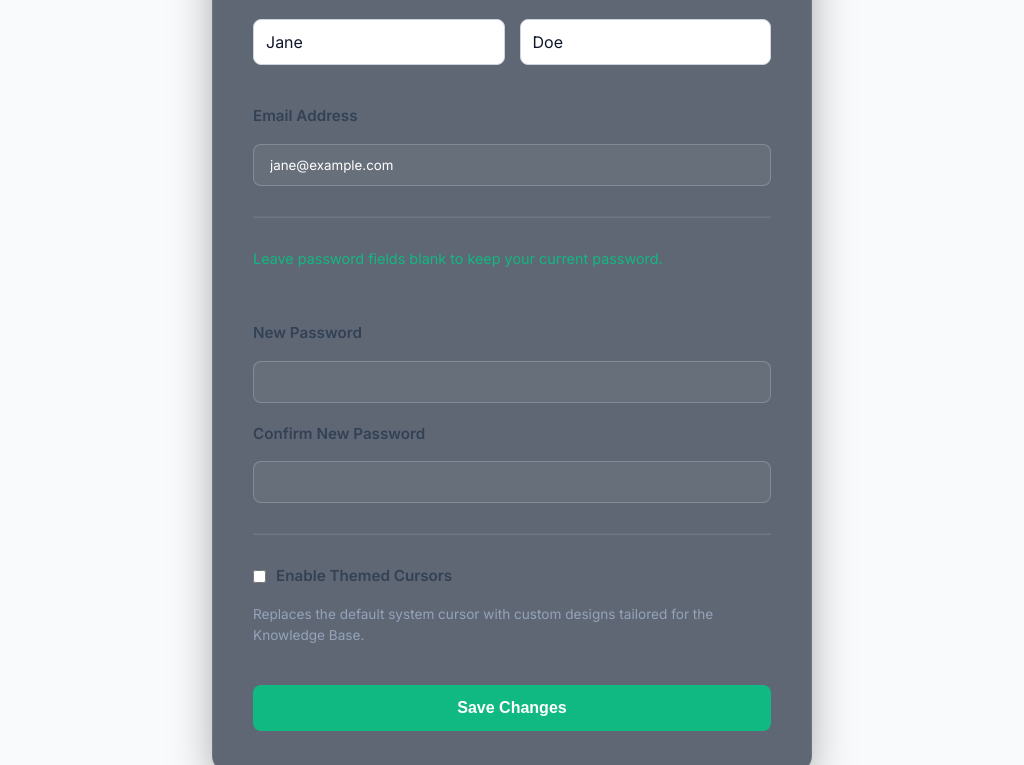
Test: ProfileSettings – password validation › shows an error toast when passwords do not match
The width and height of the screenshot is (1024, 765).
(page scrolled)
Type "secret1" into the 1st password field named "password" at (512, 382), box 253,361 -> 771,403
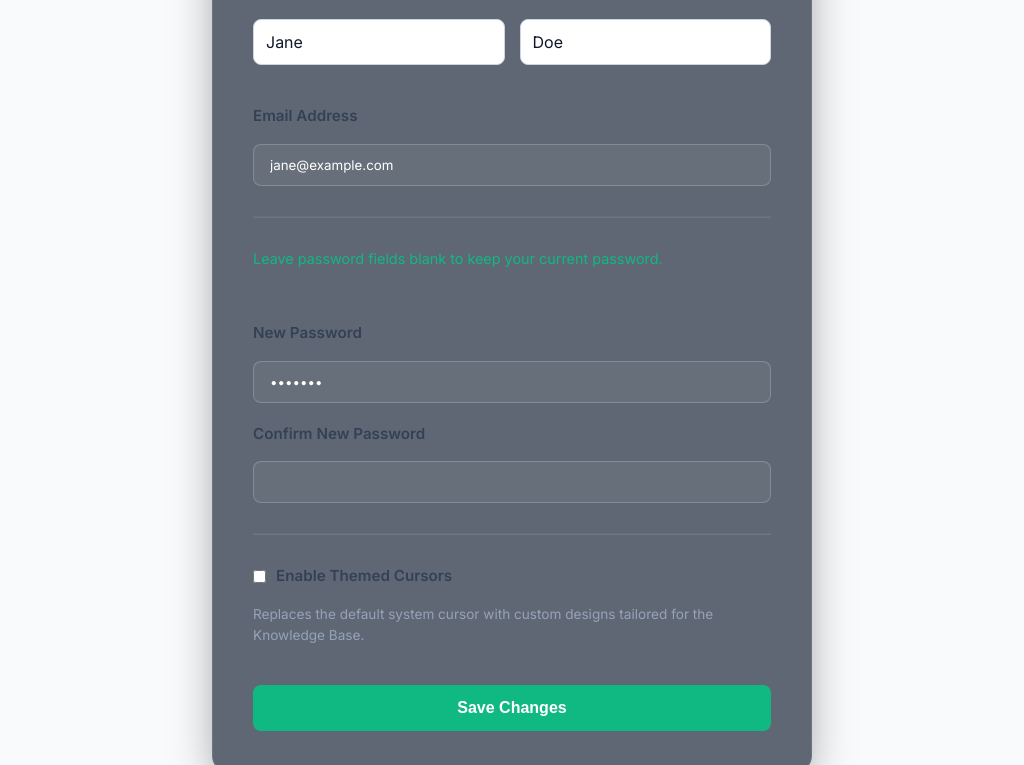
Type "different" into the password field named "confirmPassword" below "Confirm New Password" at (512, 482), box 253,461 -> 771,503
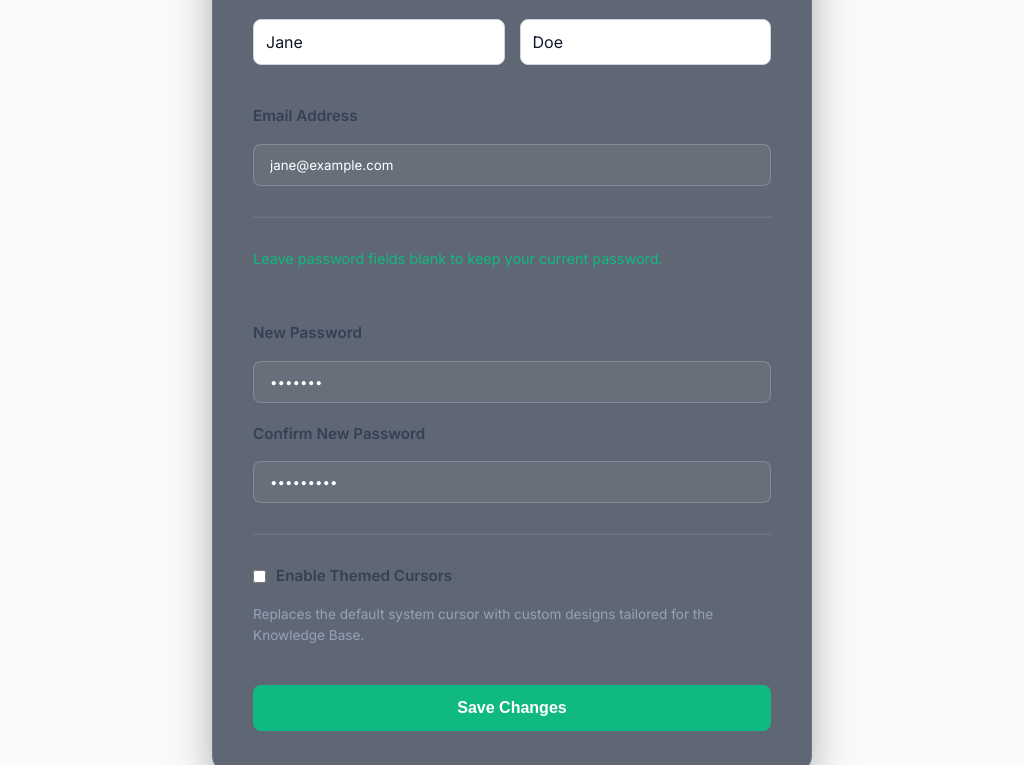
Click the button "Save Changes" at (512, 708), box 253,685 -> 771,731
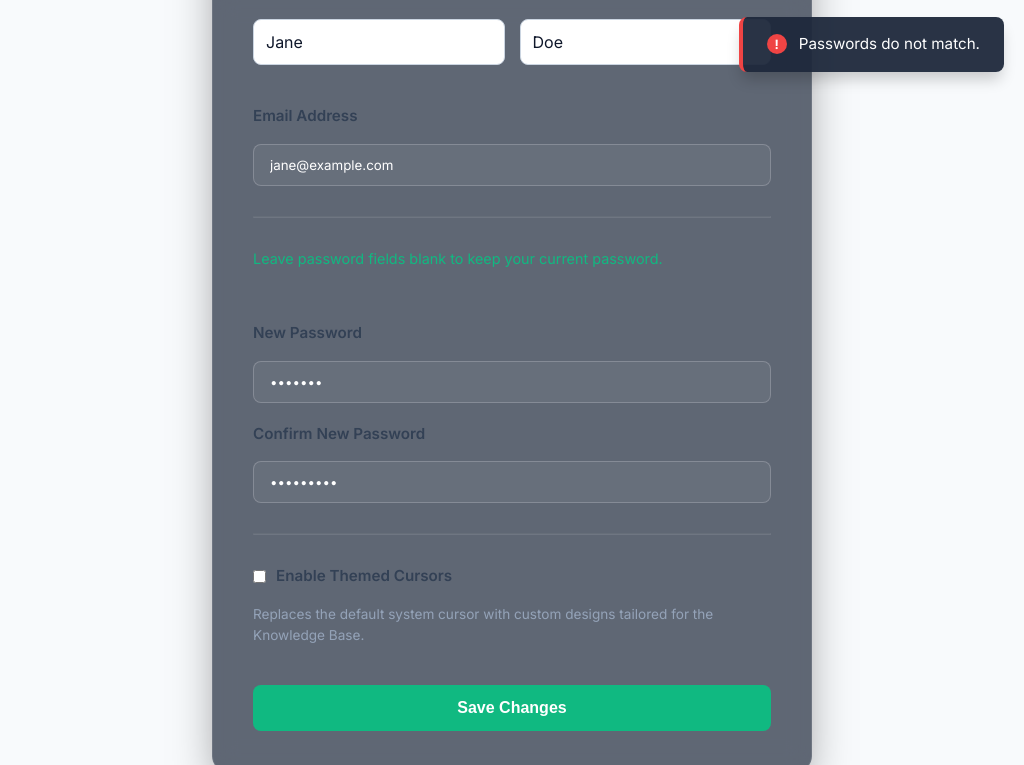
expect the text "Passwords do not match." is shown: met, box 799,33 -> 980,56
